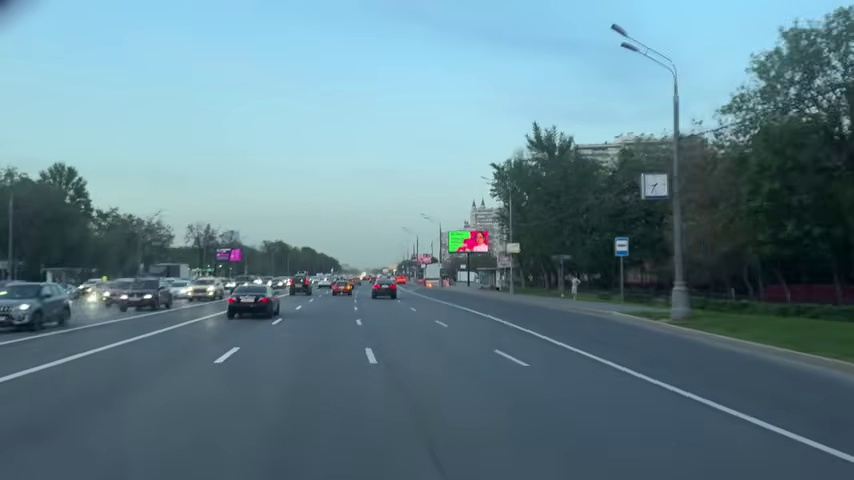apagada: (608, 21, 635, 54)
